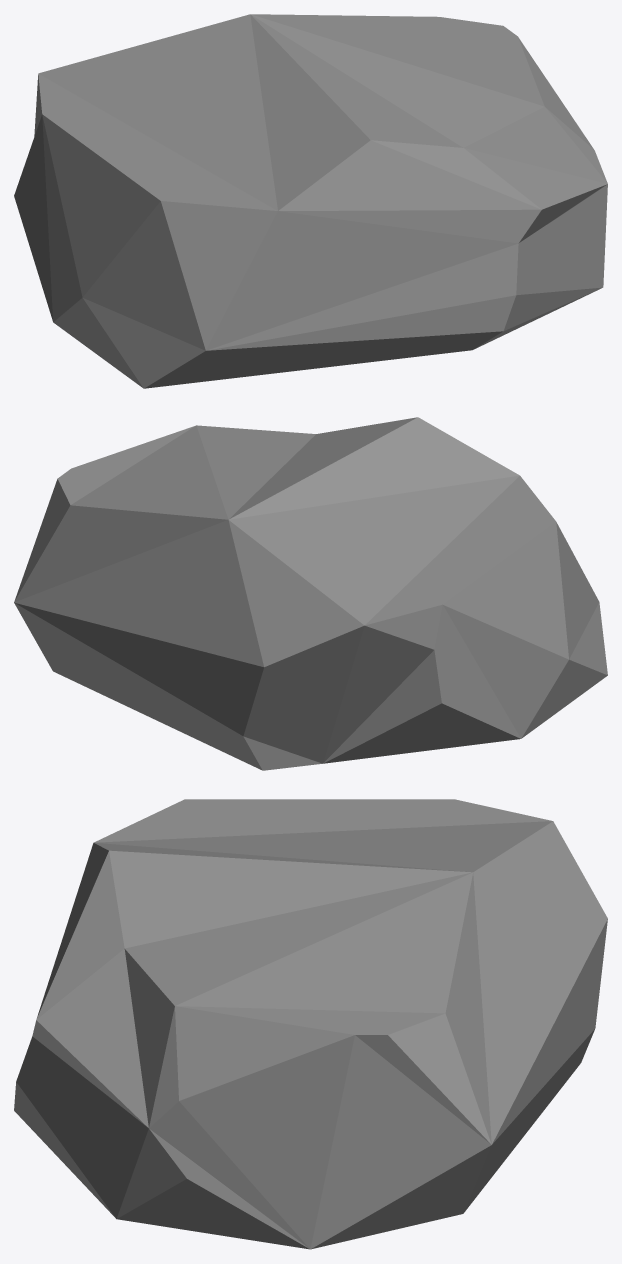
Rendered from Stone_B_07.FBX.
The picture shows the model from 3 angles, top to bottom: view 1: azimuth 30°, elevation 25°; view 2: azimuth 150°, elevation 25°; view 3: azimuth 270°, elevation 25°; orthographic projection. The views are drawn at different scales.
Visible parts, largest first — view 1: Stone_B_07; view 2: Stone_B_07; view 3: Stone_B_07.
Boxes of the visible parts, left/top/right/bottom form: Stone_B_07: left=14, top=14, right=607, bottom=388; Stone_B_07: left=14, top=417, right=607, bottom=770; Stone_B_07: left=14, top=799, right=607, bottom=1249.
Bounding box in the file's own units: 6.57 × 2.54 × 5.76.
